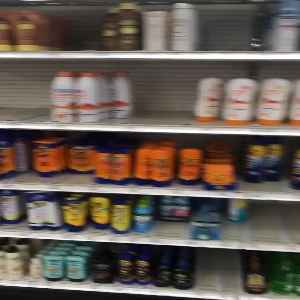void: (131, 62, 195, 126), (200, 3, 264, 53), (1, 61, 50, 122), (49, 1, 104, 51), (194, 249, 241, 295), (250, 202, 300, 242)
